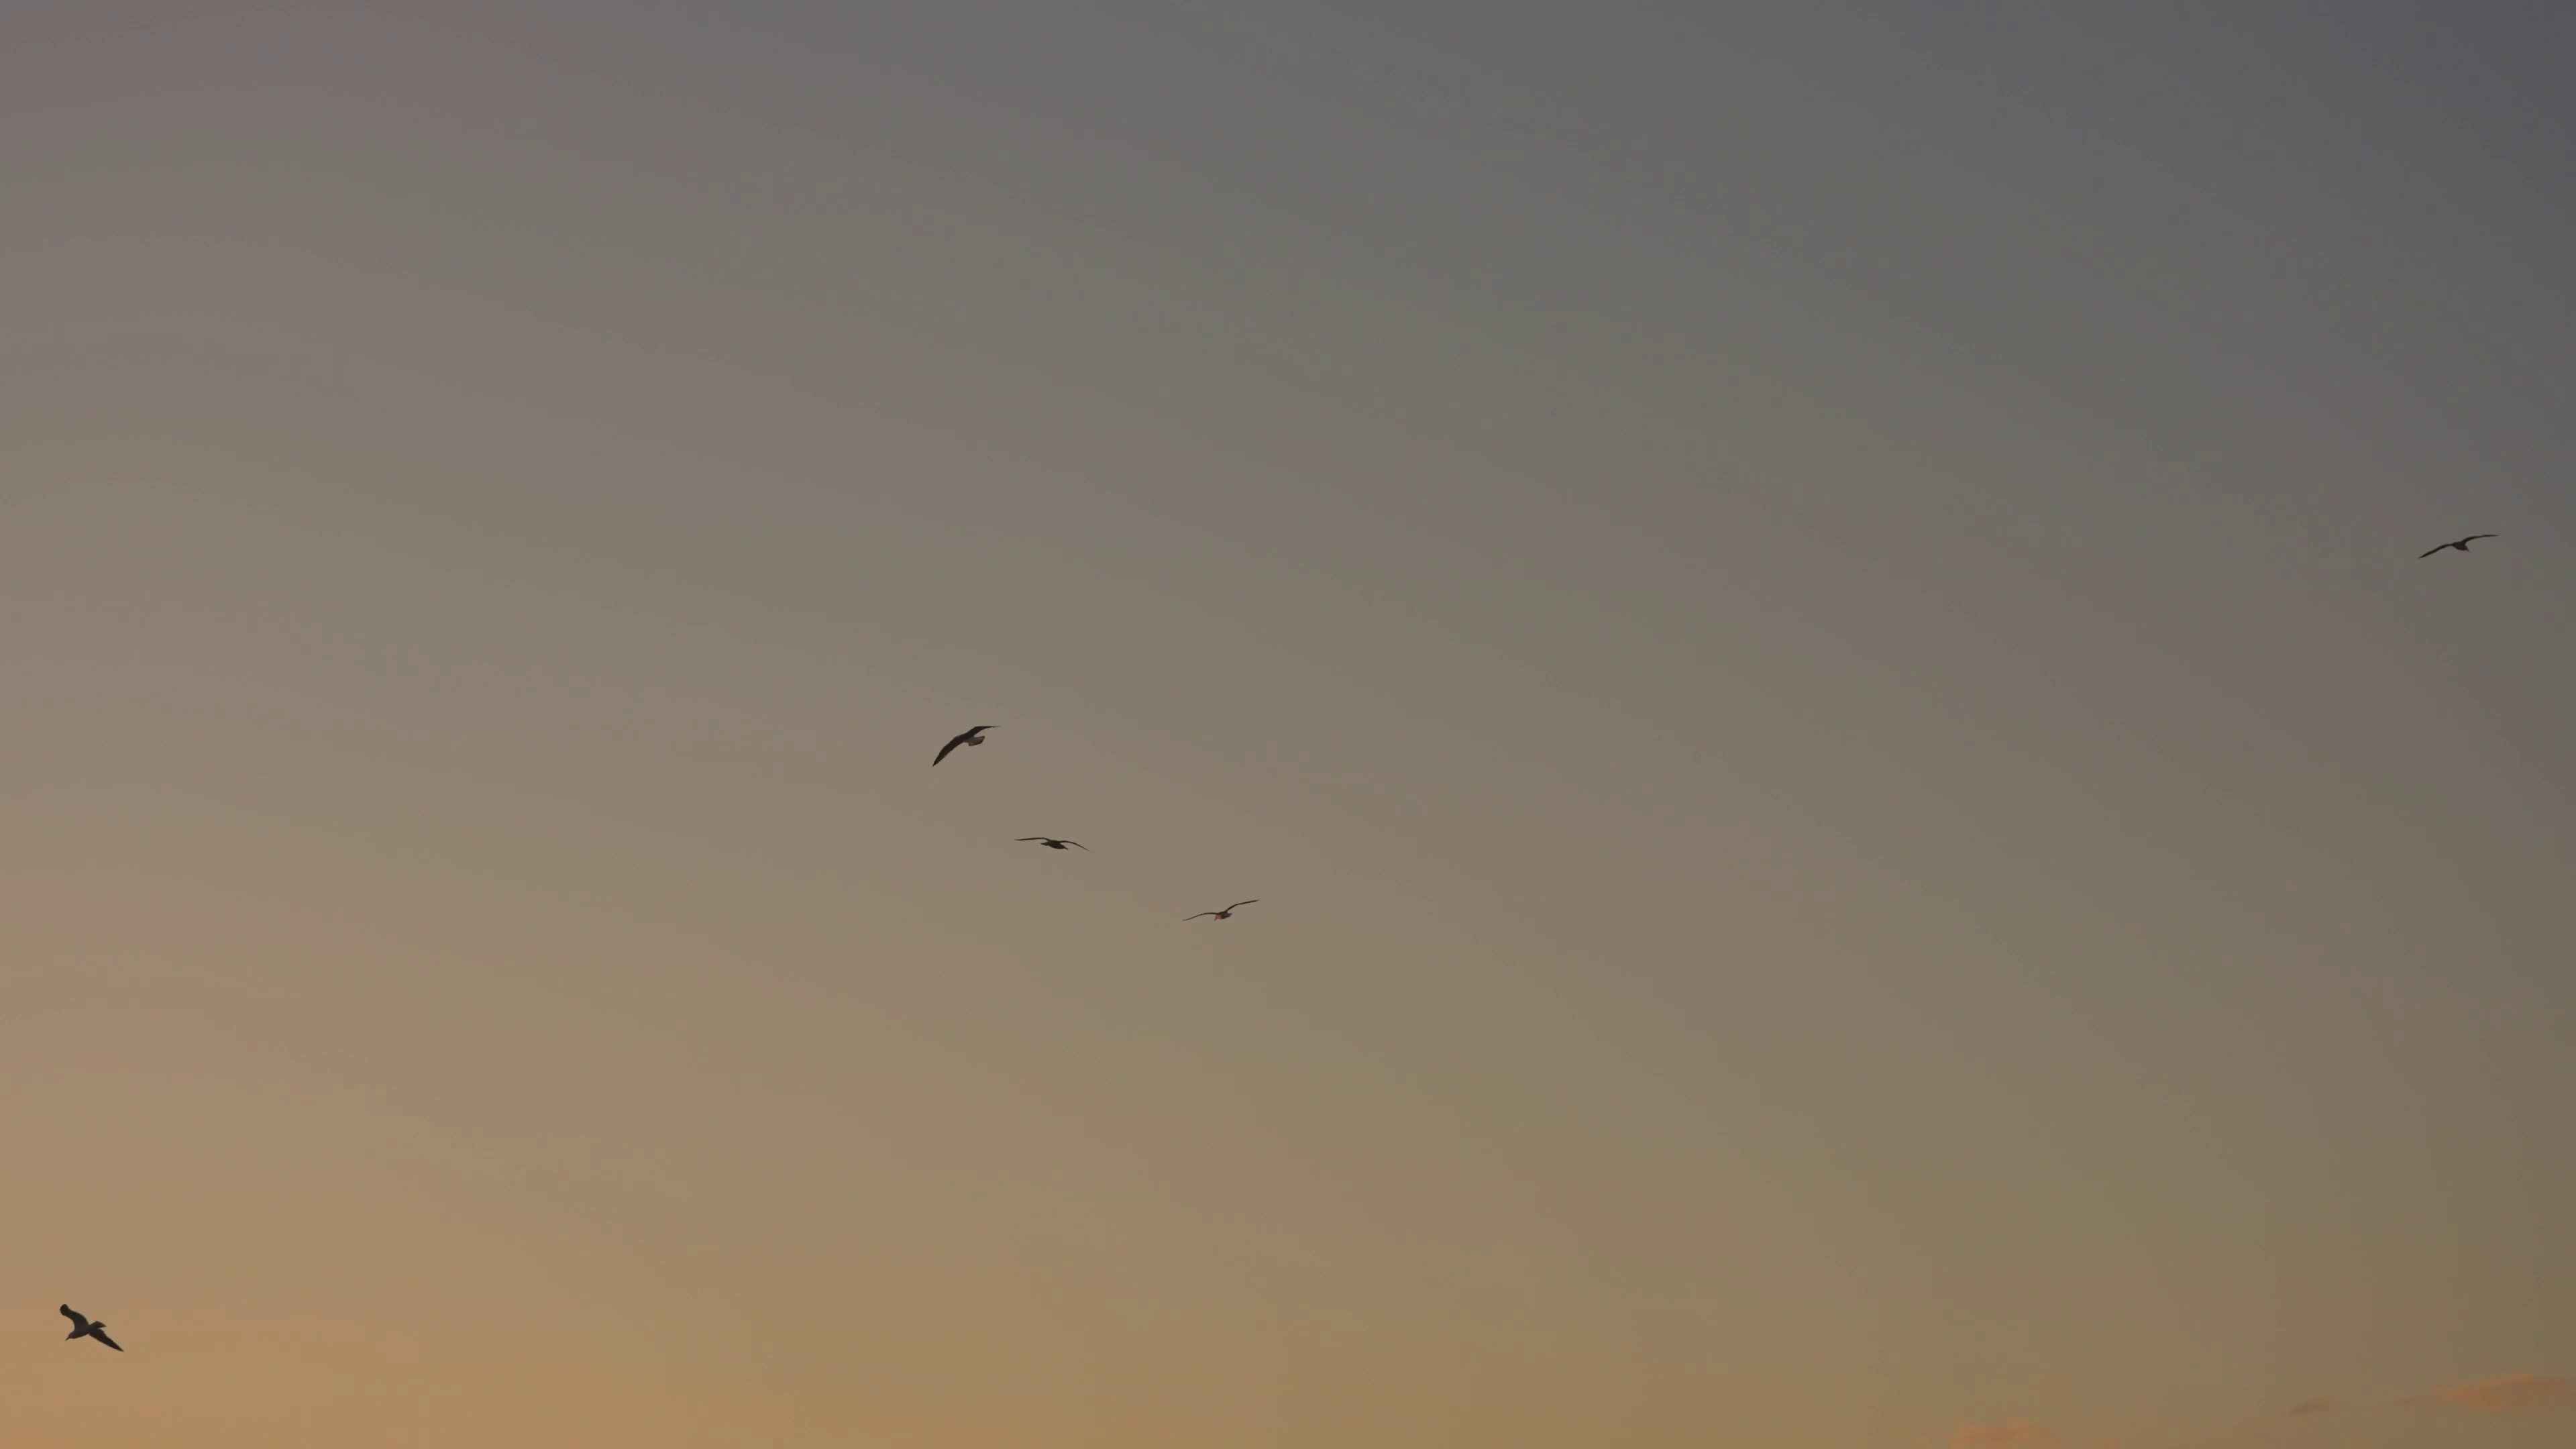bird: (58, 1304, 126, 1355), (931, 722, 998, 768), (2415, 529, 2498, 561), (1184, 895, 1256, 925), (1017, 828, 1081, 855)
